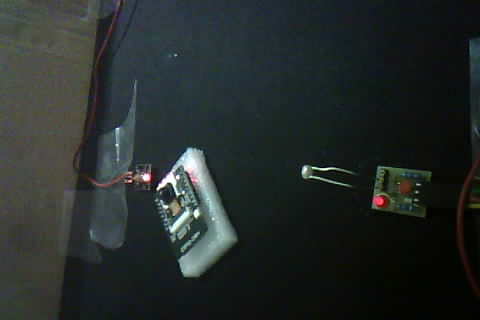esp32: (153, 150, 234, 269)
